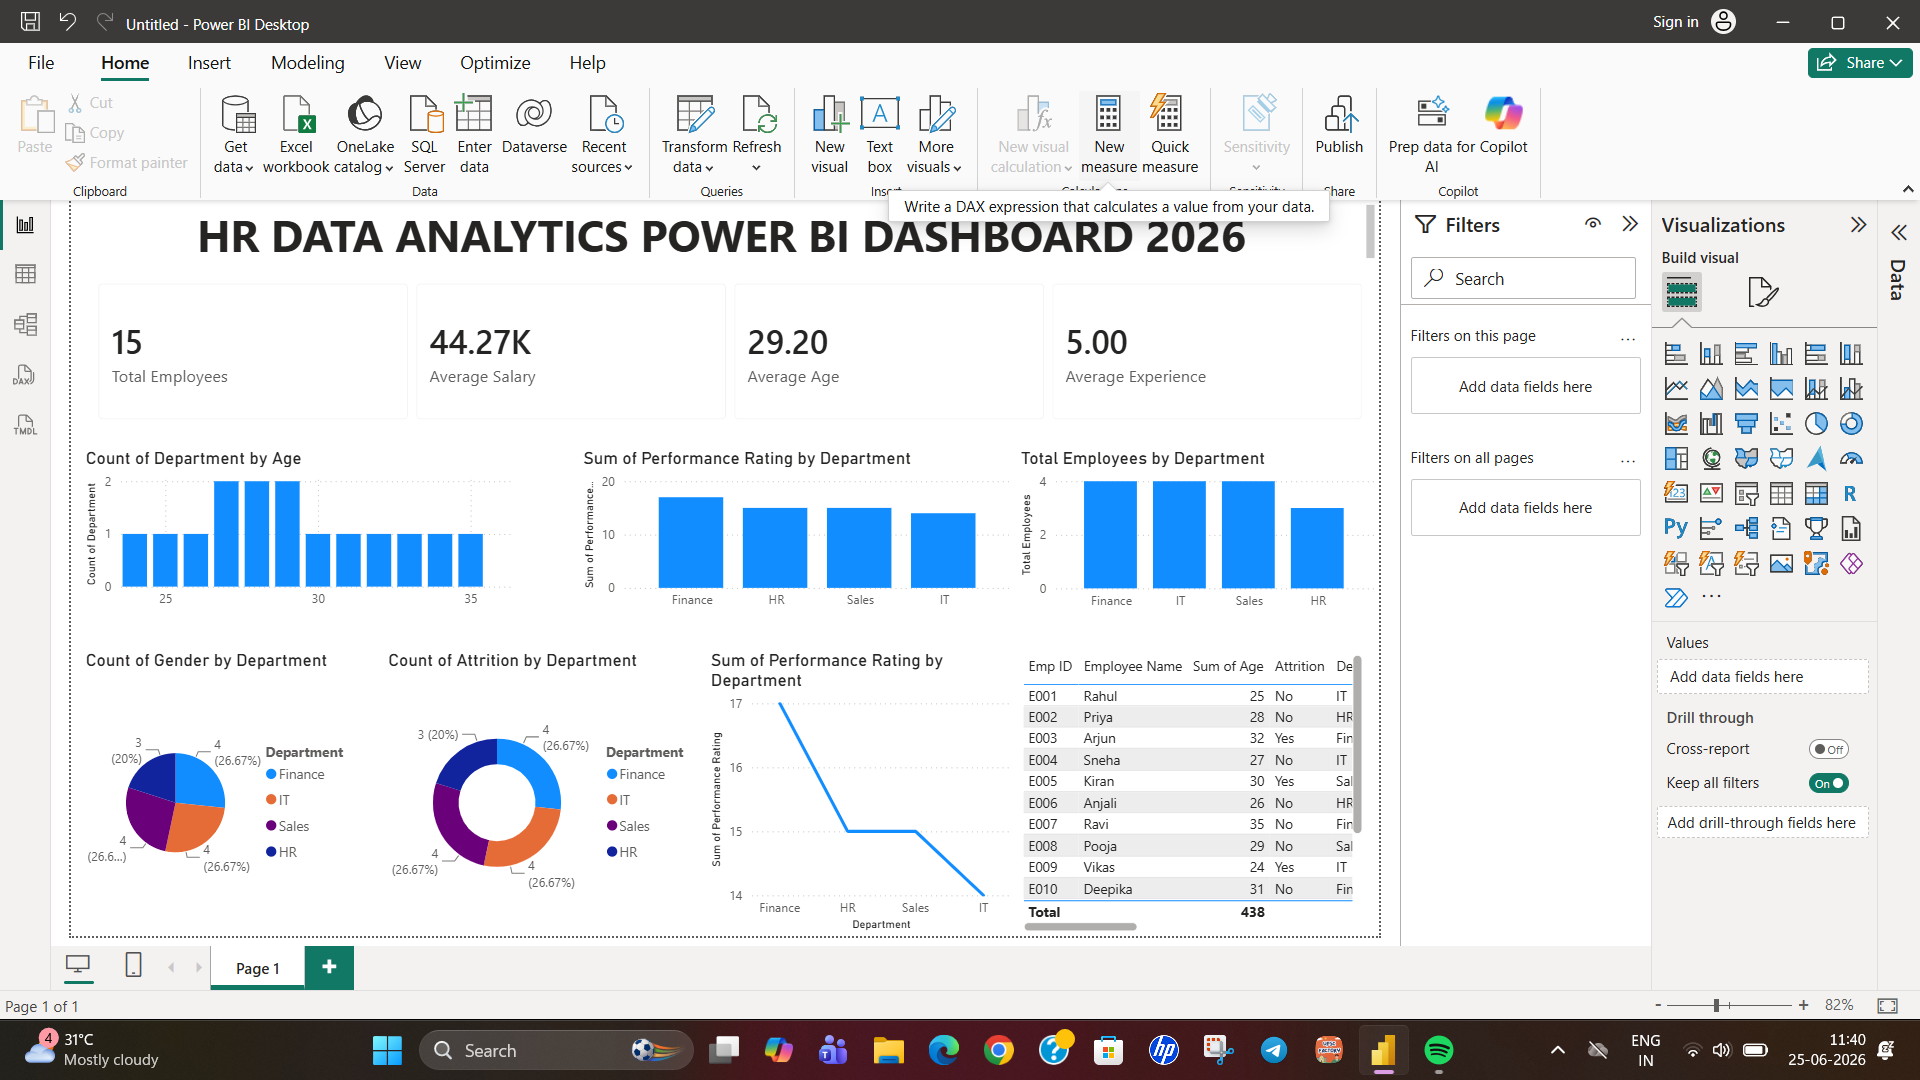

The page's visual inventory and layout, read from the dashboard file:
{"tool":"powerbi","page":{"name":"Page 1","canvas":[1280,720],"ordinal":0},"visuals":[{"type":"tableEx","fields":{"Values":["Sheet1.Emp ID","Sheet1.Employee Name","Sum(Sheet1.Age)","Sheet1.Attrition","Sheet1.Department","Sum(Sheet1.Performance Rating)","Sum(Sheet1.Salary)","Sum(Sheet1.Experience)","Sheet1.Gender","Sheet1.Total Employees"]},"box":[925.7,440.2,342.4,280],"z":0},{"type":"cardVisual","fields":{"Data":["Sheet1.Total Employees","Sheet1.Average Age","Sheet1.Average Age1","Sheet1.Average Experience"]},"box":[9.6,64.5,1270.7,167.4],"z":1},{"type":"textbox","box":[0,0,1280.3,64.5],"z":3},{"type":"clusteredColumnChart","fields":{"Category":["Sheet1.Age"],"Y":["CountNonNull(Sheet1.Department)"]},"box":[9.8,242.1,429.2,166.3],"z":4},{"type":"pieChart","fields":{"Category":["Sheet1.Department"],"Y":["CountNonNull(Sheet1.Gender)"]},"box":[9.8,440.2,276.4,280],"z":5},{"type":"lineStackedColumnComboChart","fields":{"Category":["Sheet1.Department"],"Y":["Sum(Sheet1.Performance Rating)"]},"box":[496.5,242.1,429.2,167.5],"z":7},{"type":"donutChart","fields":{"Category":["Sheet1.Department"],"Y":["CountNonNull(Sheet1.Attrition)"]},"box":[305.7,440.2,315.5,280],"z":8},{"type":"columnChart","fields":{"Category":["Sheet1.Department"],"Y":["Sheet1.Total Employees"]},"box":[925,242,355,168],"z":9},{"type":"lineChart","fields":{"Category":["Sheet1.Department"],"Y":["Sum(Sheet1.Performance Rating)"]},"box":[621.2,440.2,303.3,280],"z":10}]}

Visuals, with their boxes on the page's 1280x720 design canvas (x1, y1, x2, y2). These are canvas units, not pixel positions in the 1920x1080 screenshot, which may show the page scaled, cropped or inside an application window:
tableEx - Sheet1.Emp ID x Sheet1.Employee Name: (x1=926, y1=440, x2=1268, y2=720)
cardVisual - Sheet1.Total Employees x Sheet1.Average Age: (x1=10, y1=64, x2=1280, y2=232)
textbox: (x1=0, y1=0, x2=1280, y2=64)
clusteredColumnChart - Sheet1.Age x CountNonNull(Sheet1.Department): (x1=10, y1=242, x2=439, y2=408)
pieChart - Sheet1.Department x CountNonNull(Sheet1.Gender): (x1=10, y1=440, x2=286, y2=720)
lineStackedColumnComboChart - Sheet1.Department x Sum(Sheet1.Performance Rating): (x1=496, y1=242, x2=926, y2=410)
donutChart - Sheet1.Department x CountNonNull(Sheet1.Attrition): (x1=306, y1=440, x2=621, y2=720)
columnChart - Sheet1.Department x Sheet1.Total Employees: (x1=925, y1=242, x2=1280, y2=410)
lineChart - Sheet1.Department x Sum(Sheet1.Performance Rating): (x1=621, y1=440, x2=924, y2=720)
